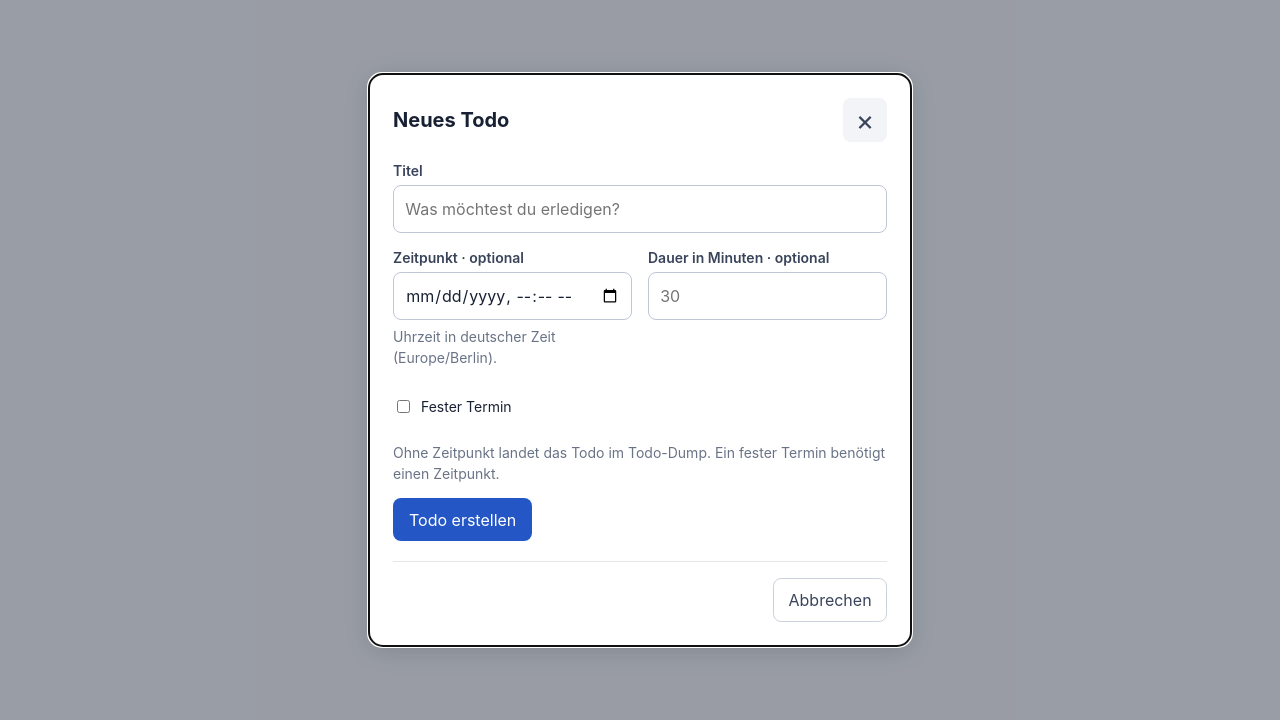
CreateItemDialog › keeps the form and input when creation fails
Step 1. Type "Test" into the field named "title" → (640, 209), box x1=393 y1=185 x2=887 y2=233
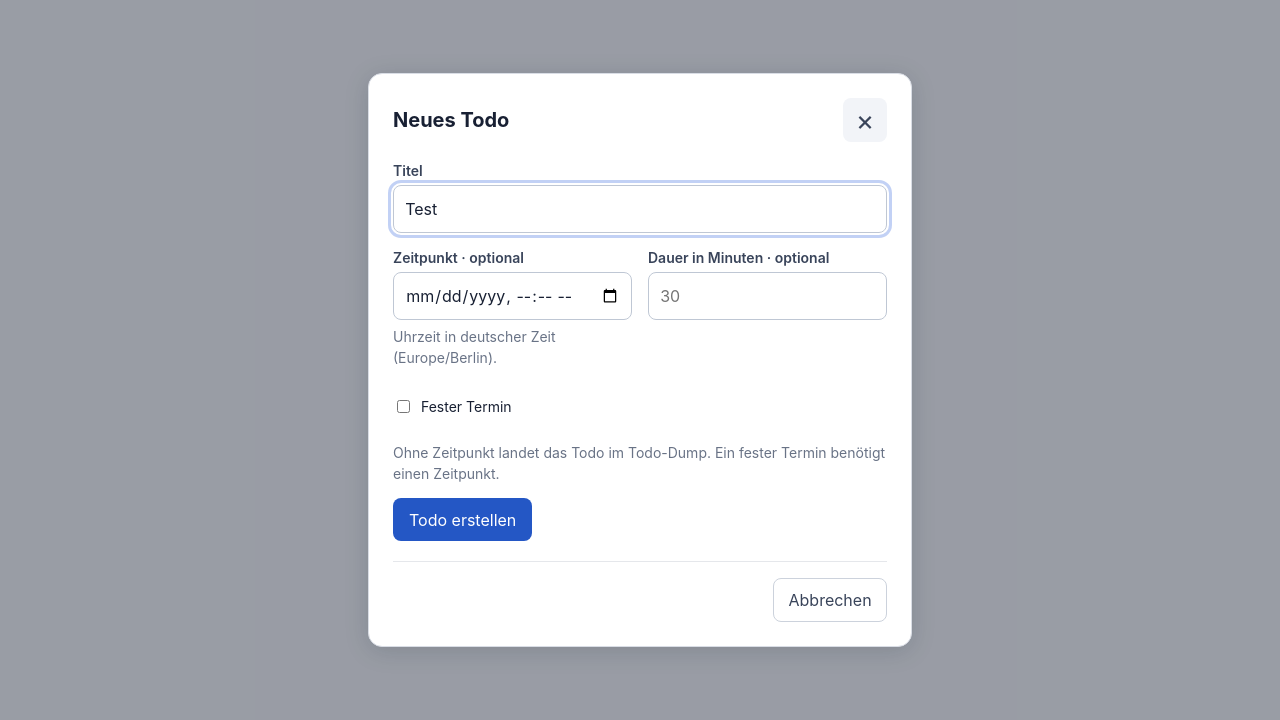
Step 2. Submit the form, box x1=393 y1=162 x2=887 y2=541
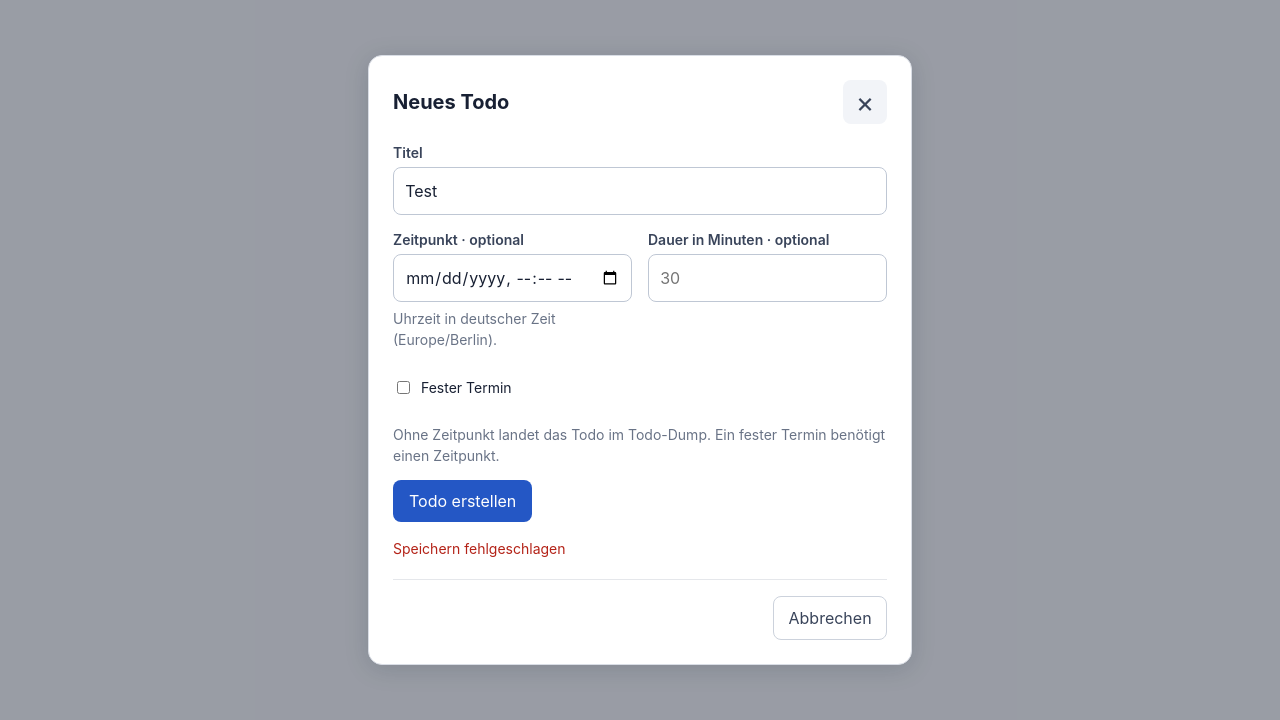
Expected: the button with class "modal-dialog__close" is enabled, x1=843 y1=80 x2=887 y2=124
Expected: the message "Speichern fehlgeschlagen" is shown, x1=393 y1=540 x2=566 y2=557
